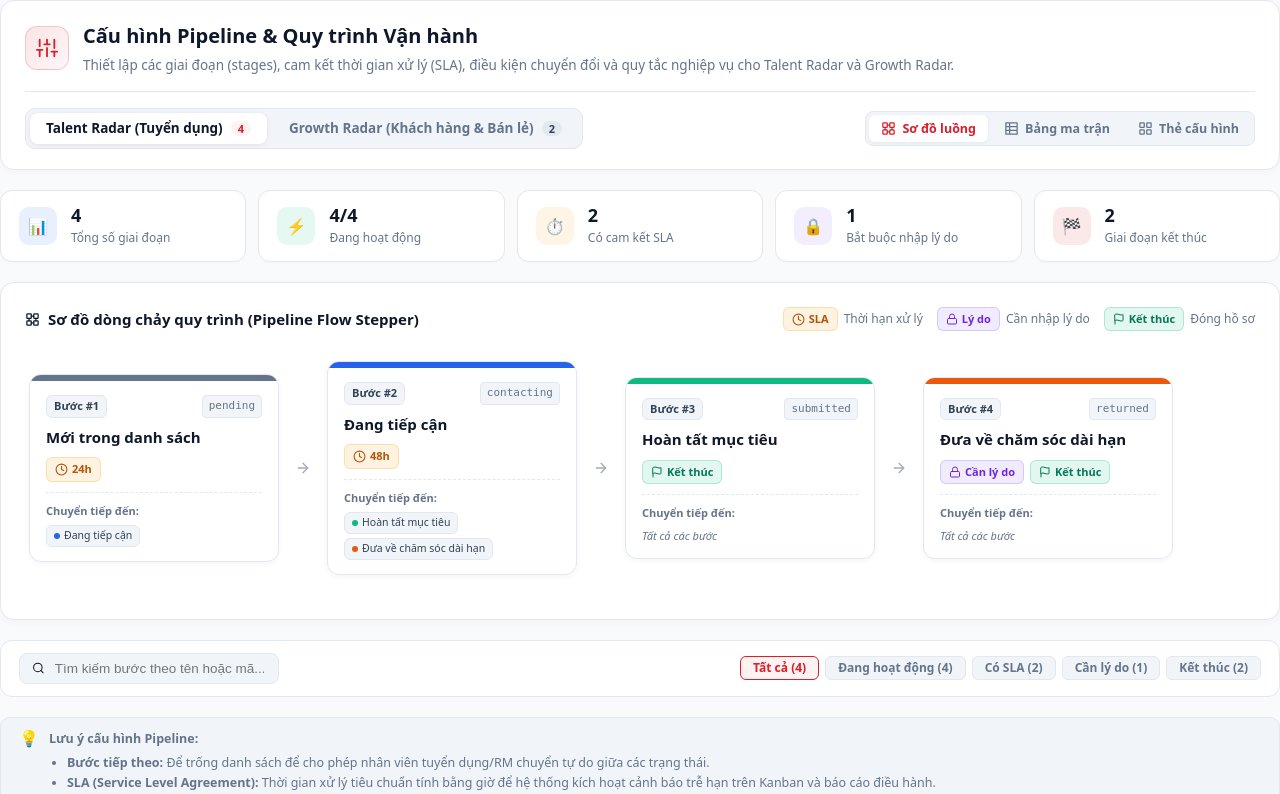
Scenario: Workflows Pipeline Configuration Studio › cho phép chuyển đổi giữa tab Talent Radar và Growth Radar
The width and height of the screenshot is (1280, 794).
Bấm sang tab Growth Radar
Click the text "Growth Radar (Khách hàng & Bán lẻ)". click: coordinates (411, 129)
box: [289, 122, 534, 136]
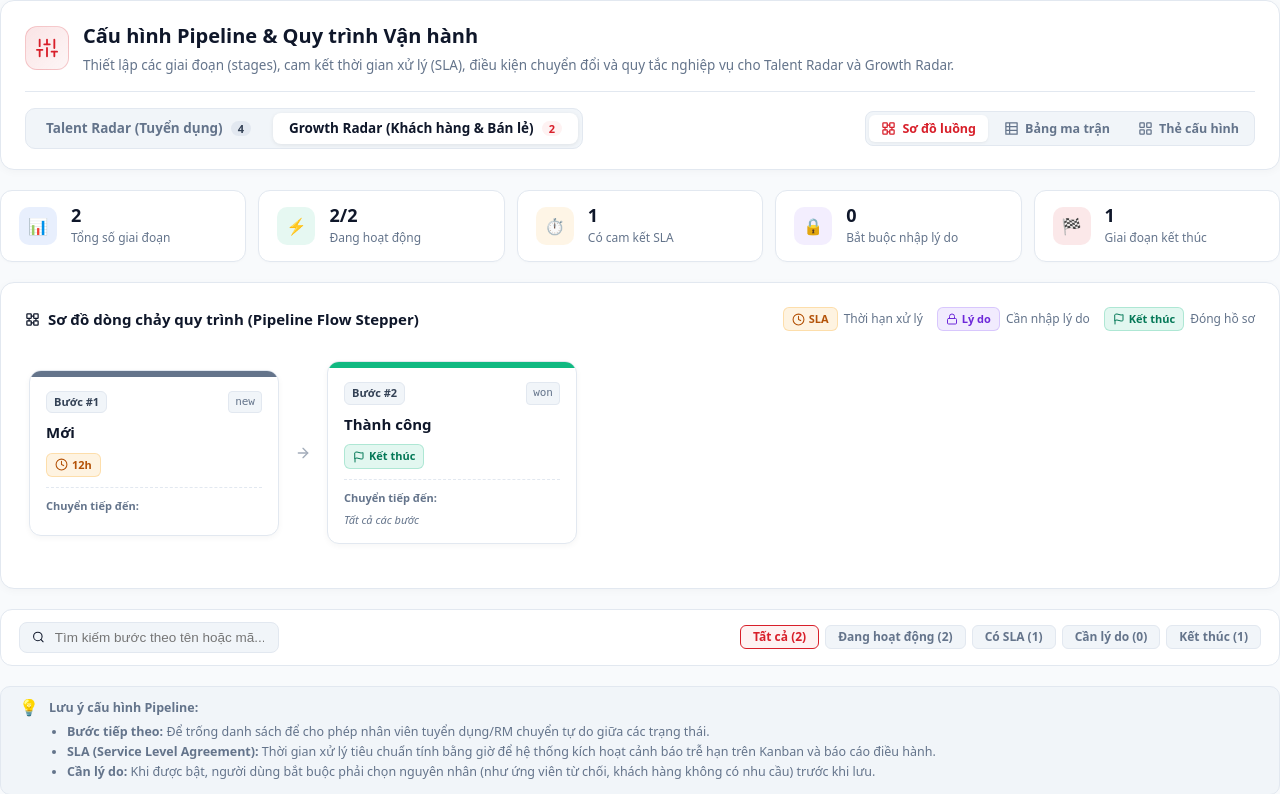
Now the heading "Thành công" is shown, box [344, 414, 432, 434]
Now the heading "Mới trong danh sách" is gone
